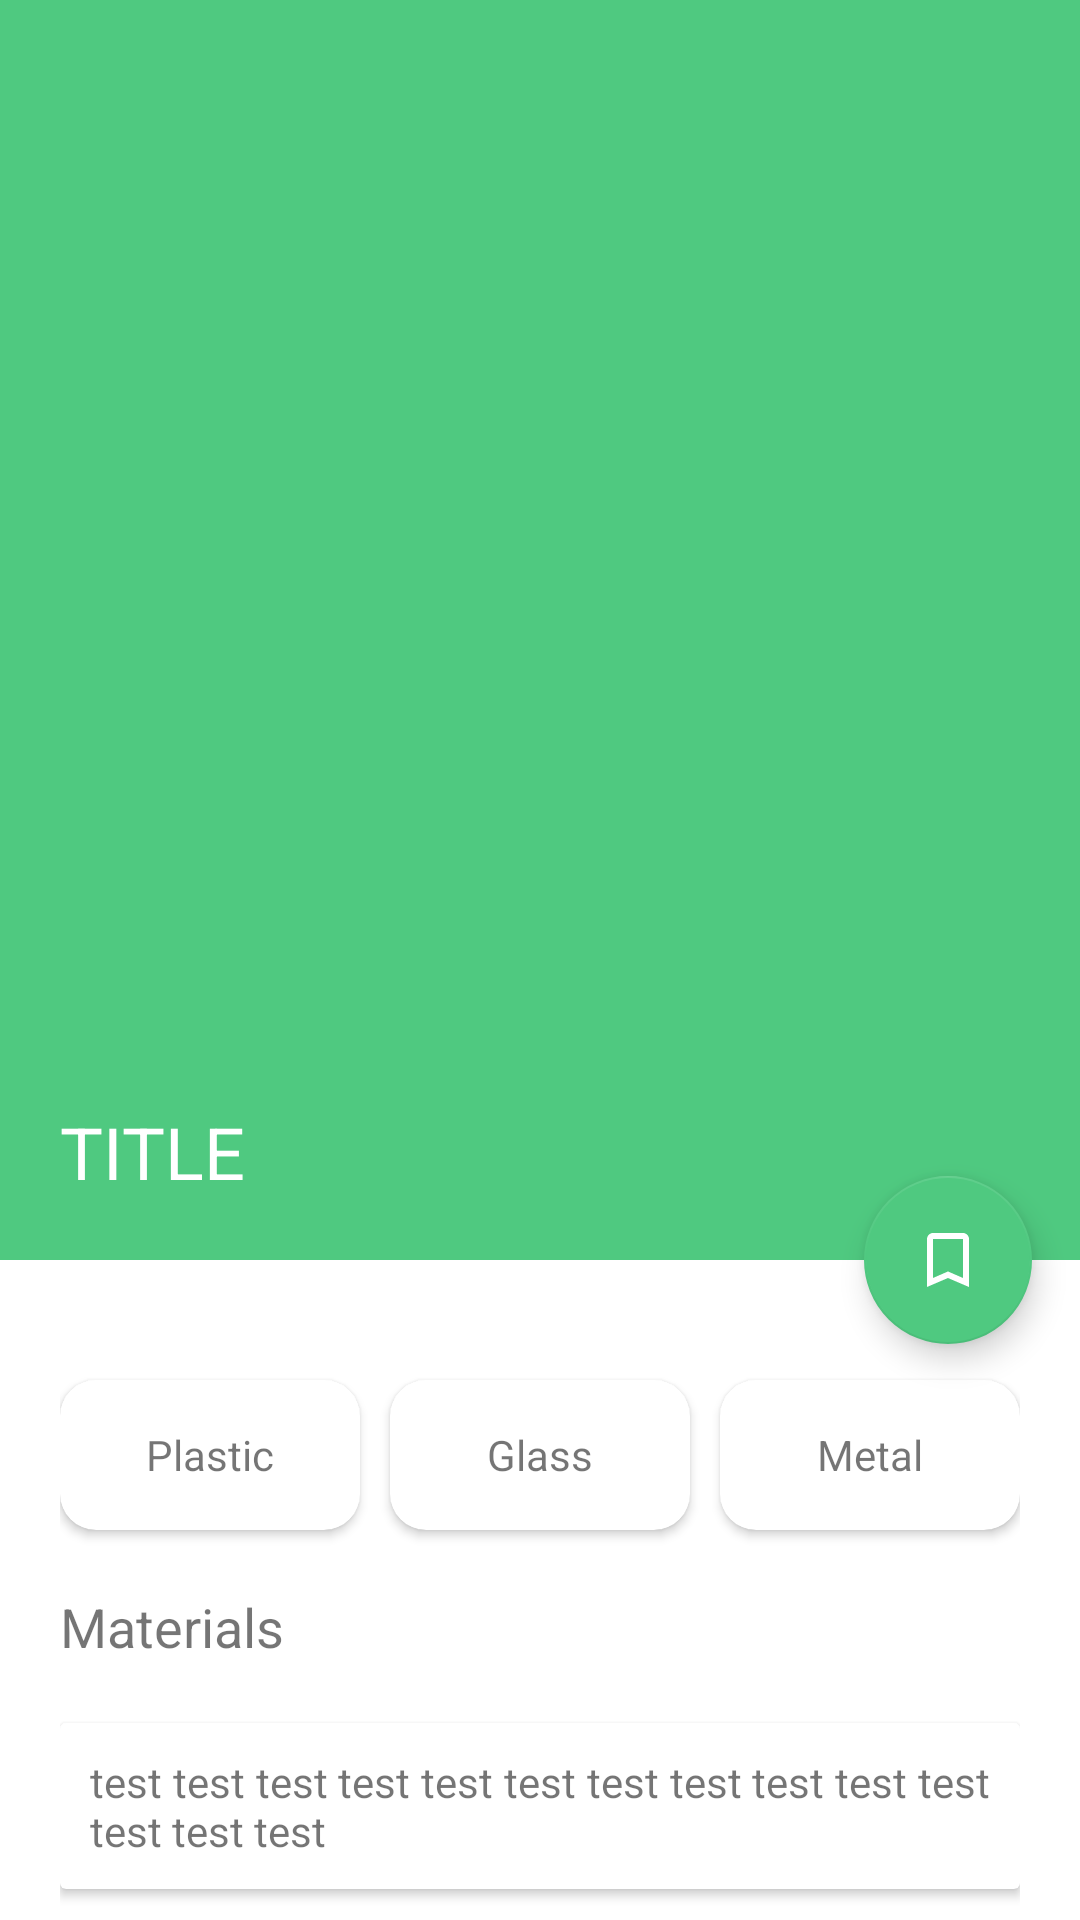

Where to tap for icons on this 1080 × 1920 app screen, as (x,y):
bookmark not: (948,1260)
